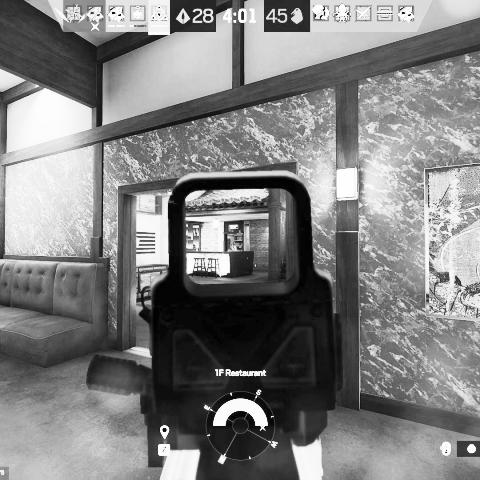Character: (228, 243, 238, 252)
